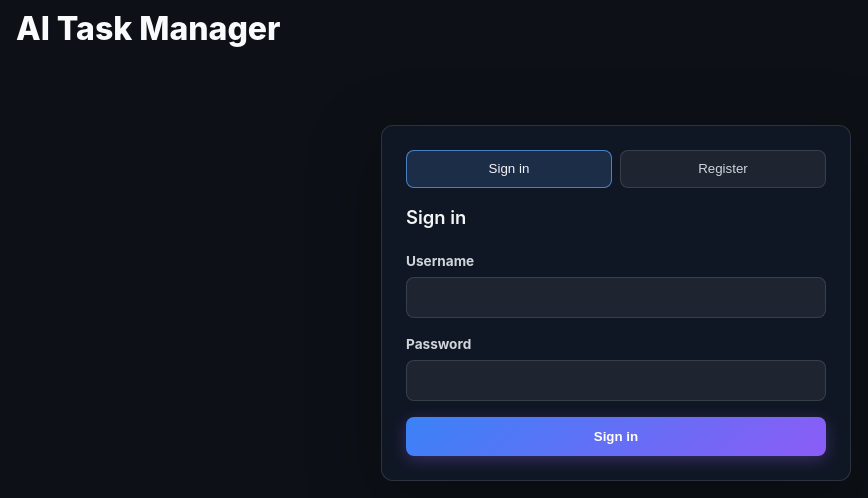
Test: App Component › can switch to register mode
The width and height of the screenshot is (868, 498).
Click the button "Register" at (723, 169), box [620, 150, 826, 188]
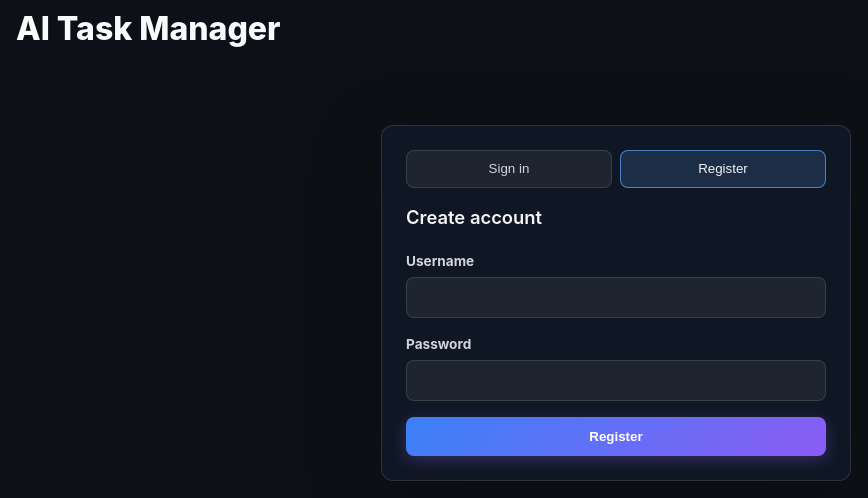
Expected: the heading "Create account" is shown, [406, 206, 542, 228]
